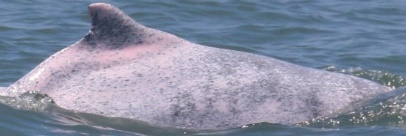fin: (2, 1, 393, 136)
